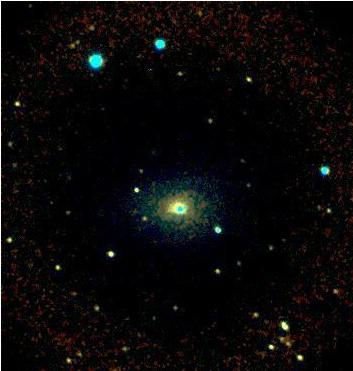star: (203, 54, 233, 84)
